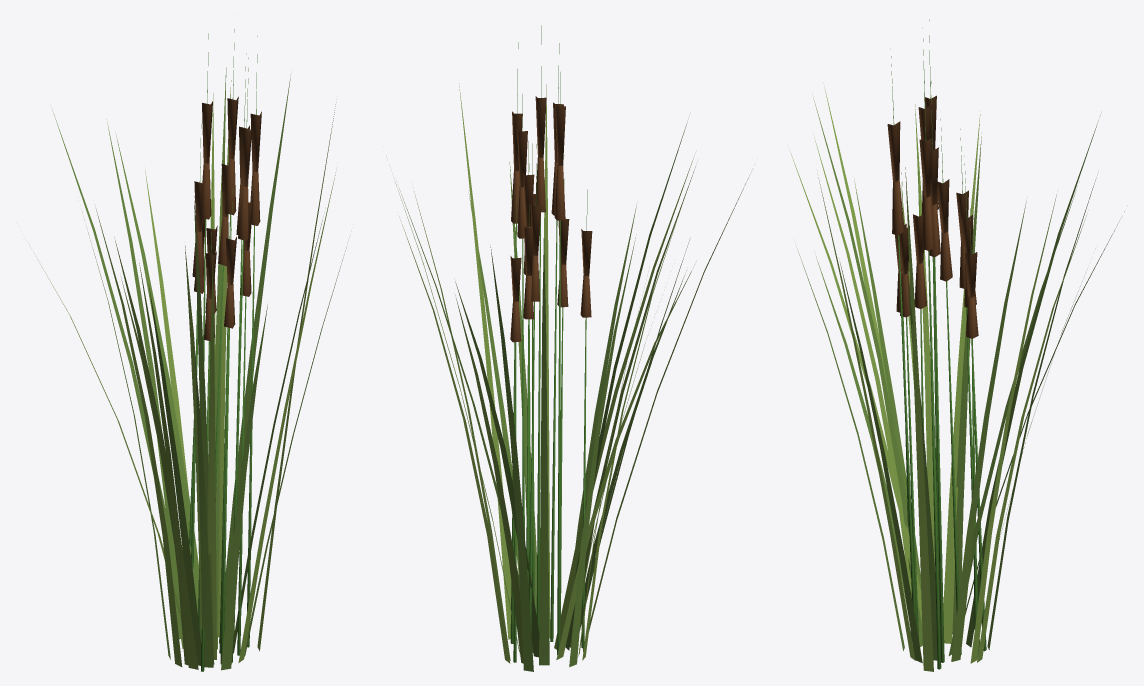
Rendered from reed-b.glb.
3 renders of one model, left to right at view 1: azimuth 30°, elevation 25°; view 2: azimuth 150°, elevation 25°; view 3: azimuth 270°, elevation 25°, orthographic. The views are drawn at different scales.
Visible parts, largest first — view 1: reed-b; view 2: reed-b; view 3: reed-b.
Part boxes in pixels (<box>): reed-b: <box>25,29,346,671</box>; reed-b: <box>395,25,750,671</box>; reed-b: <box>789,19,1124,671</box>.
Bounding box in the file's own units: 0.4401 × 0.9 × 0.4398.
